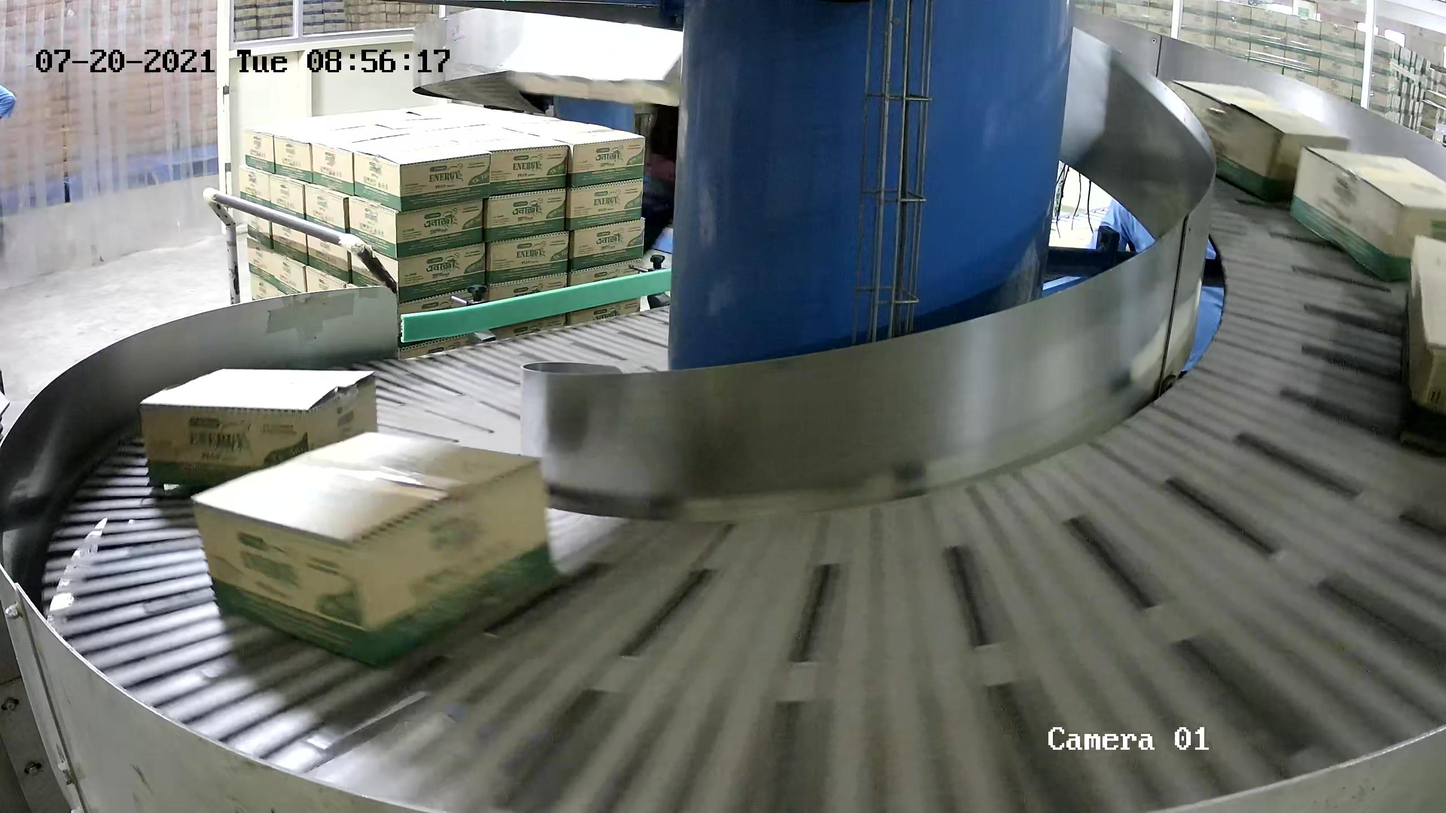Box: (190, 430, 557, 668), (140, 368, 381, 500), (1153, 79, 1351, 205), (1288, 145, 1446, 282), (1397, 233, 1446, 464)
